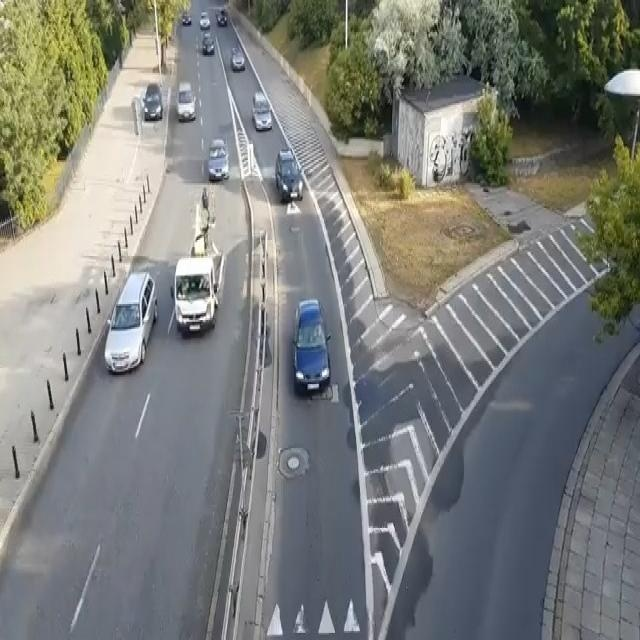Car: (102, 266, 160, 382), (288, 294, 332, 398), (170, 247, 222, 335), (273, 142, 304, 204), (201, 134, 236, 186), (247, 91, 283, 133), (172, 84, 201, 125), (136, 84, 166, 123), (227, 46, 251, 76)
